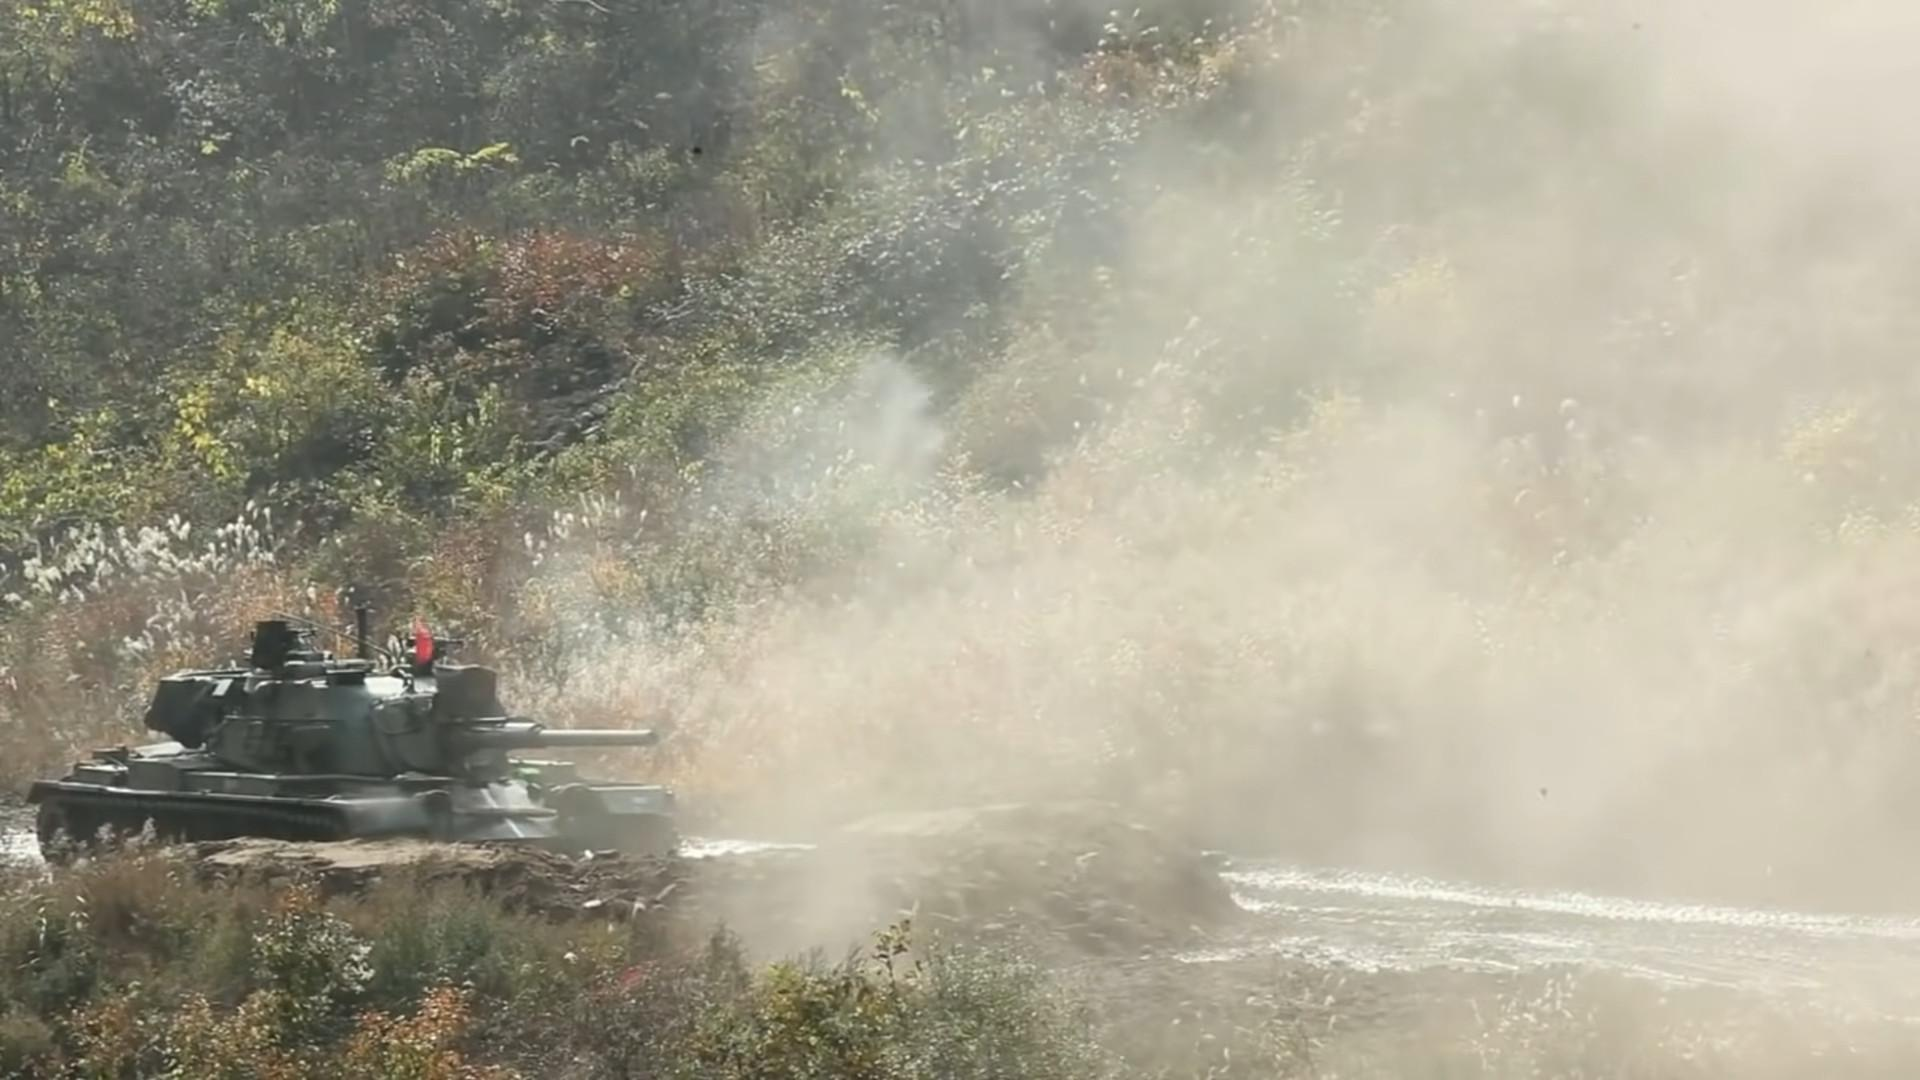tank: (21, 618, 671, 855)
